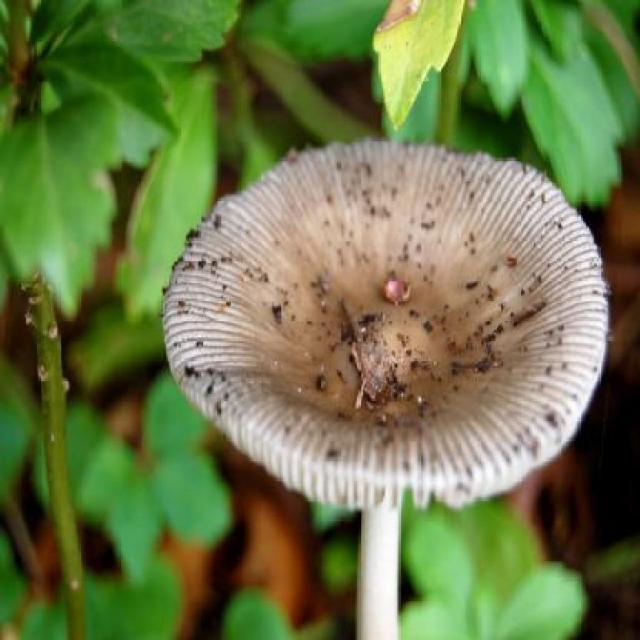Mushroom: (159, 138, 607, 640)
